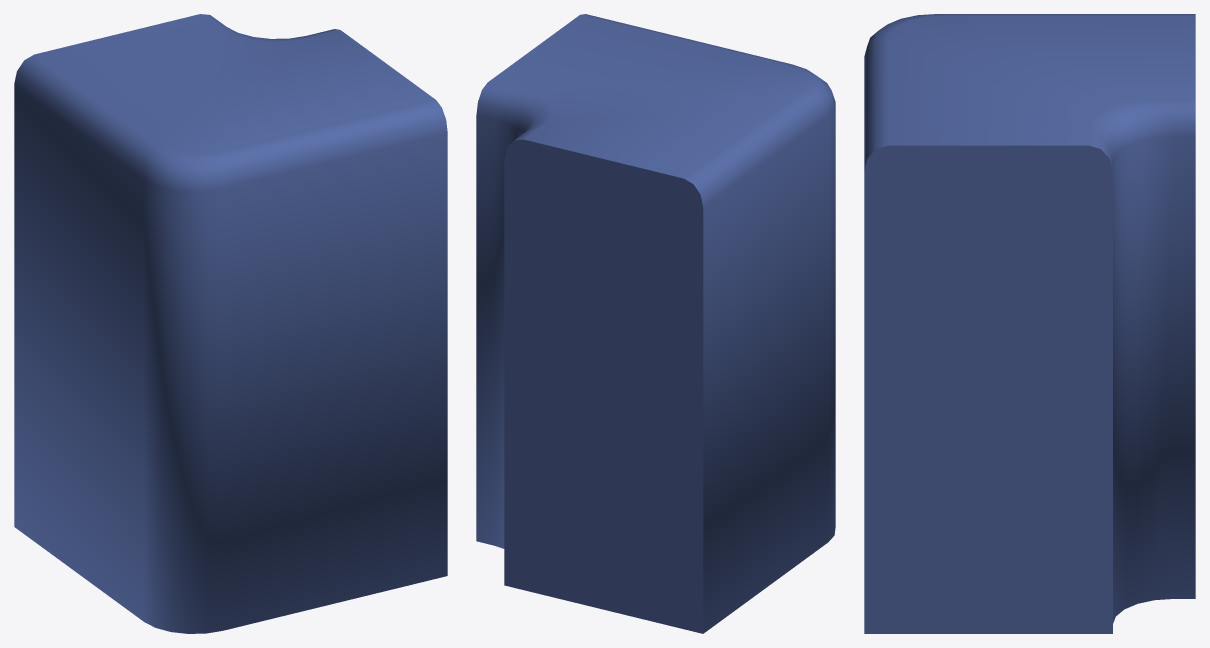
File: Frame_Corner_RT_Top.fbx
The picture shows the model from 3 angles, left to right: view 1: azimuth 30°, elevation 25°; view 2: azimuth 150°, elevation 25°; view 3: azimuth 270°, elevation 25°; orthographic projection. The views are drawn at different scales.
Parts seen in each view (by area): view 1: Frame_Corner_RT_Top; view 2: Frame_Corner_RT_Top; view 3: Frame_Corner_RT_Top.
Part boxes in pixels (x1,y1,x2,y2): Frame_Corner_RT_Top: [14, 14, 447, 633]; Frame_Corner_RT_Top: [476, 14, 835, 633]; Frame_Corner_RT_Top: [864, 14, 1195, 633].
Size of the model in its own units: 40 by 65 by 40.
